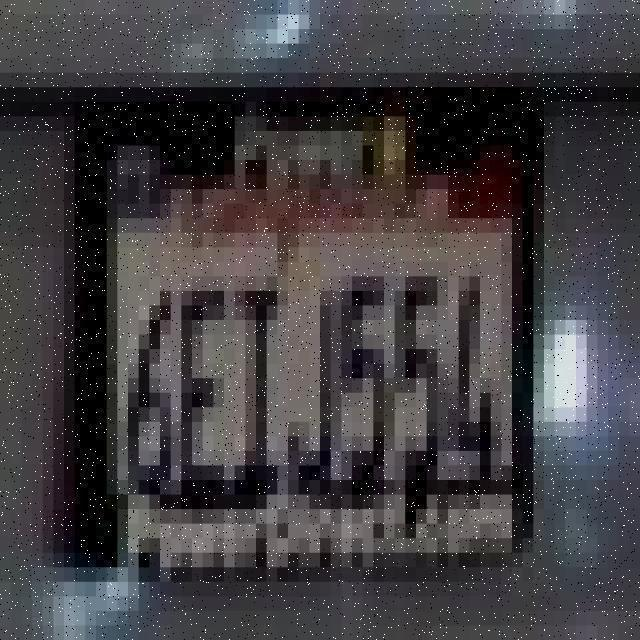License Plate: (60, 104, 568, 568)
